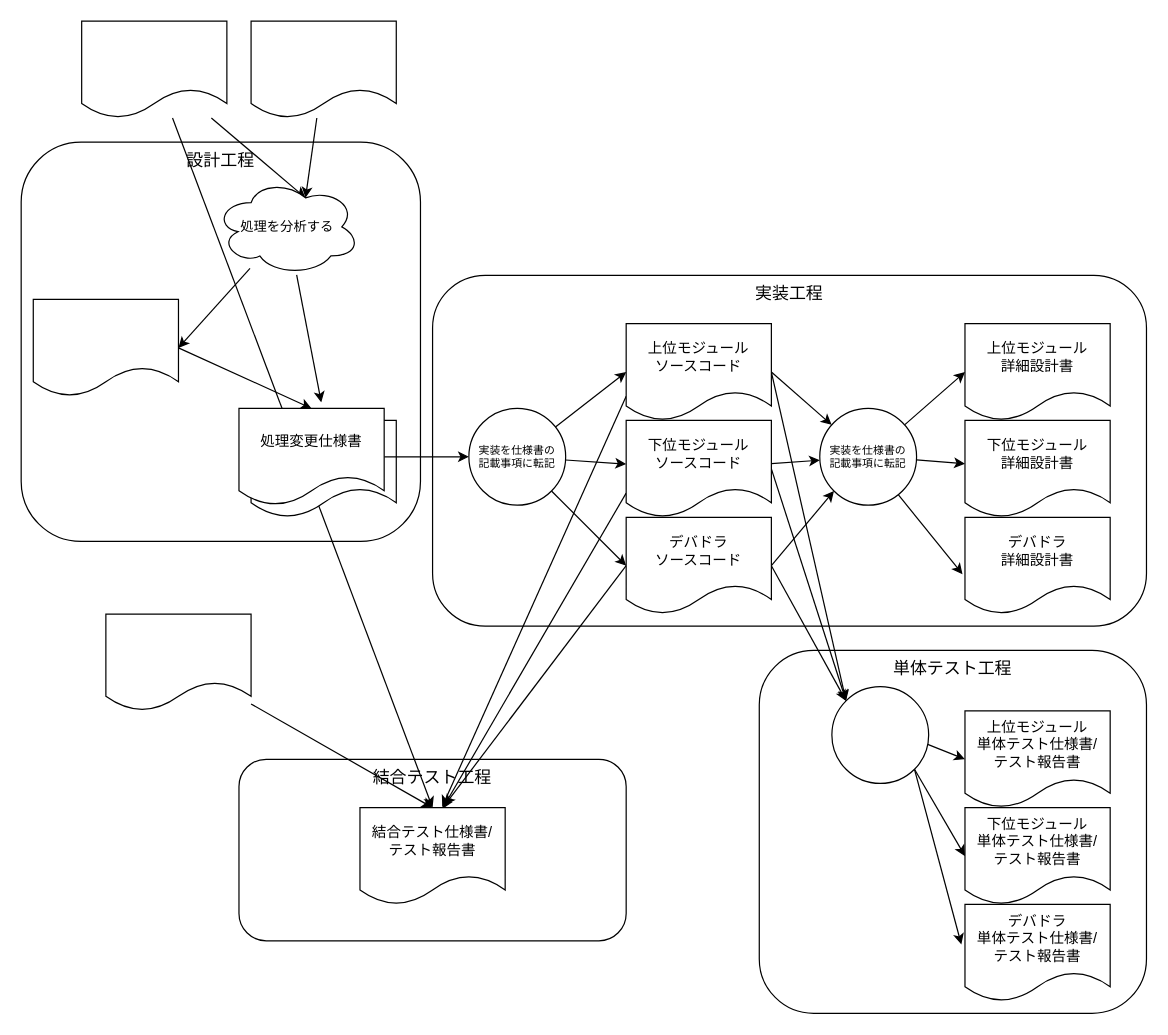
Image size: 1168x1035. Some labels were removed from this diagram. Here are the shapes that lost their labels. From the top down, the centre of each, then its label:
At [153,69]: "要求仕様書 ・各処理".
At [323,69]: "説明資料".
At [105,347]: "QAリスト".
At [178,662]: "パラメータ資料".
At [880,734]: "カバレッジ/状態遷移を通すテストを作成".
